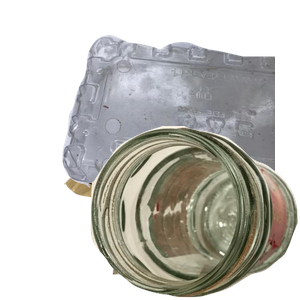glass: (90, 126, 300, 300)
metal: (78, 63, 266, 243)
plastic: (60, 32, 300, 212)
trash: (61, 127, 260, 300)
